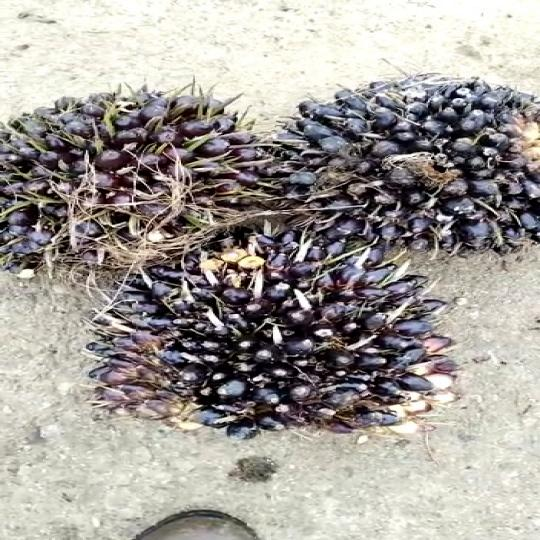mentah: (113, 235, 461, 434), (0, 76, 272, 274), (268, 70, 540, 266)
